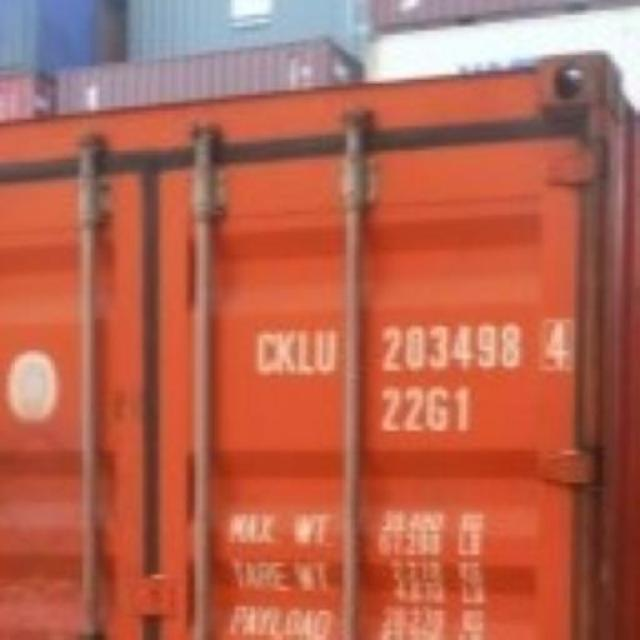ISO: (380, 386, 466, 436)
container_number: (245, 325, 575, 377)
